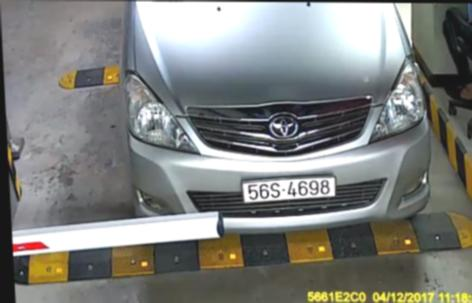License_Plate: (238, 176, 336, 202)
